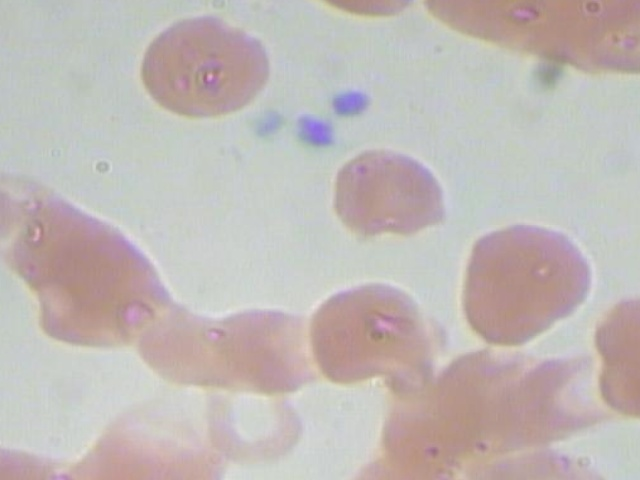Platelets: (320, 80, 374, 123), (291, 113, 336, 154), (245, 102, 290, 143)
RBC: (291, 261, 440, 391), (447, 217, 595, 347), (135, 9, 281, 122), (328, 141, 456, 246), (195, 374, 312, 467), (508, 346, 625, 439), (206, 304, 322, 396), (0, 168, 27, 246)
